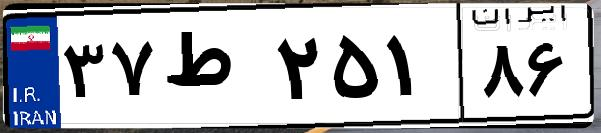1: (385, 28, 445, 110)
2: (270, 28, 330, 110)
3: (57, 26, 110, 100)
5: (330, 28, 385, 110)
6: (525, 38, 570, 115)
7: (110, 28, 158, 98)
8: (475, 38, 525, 113)
ط: (158, 20, 270, 120)
